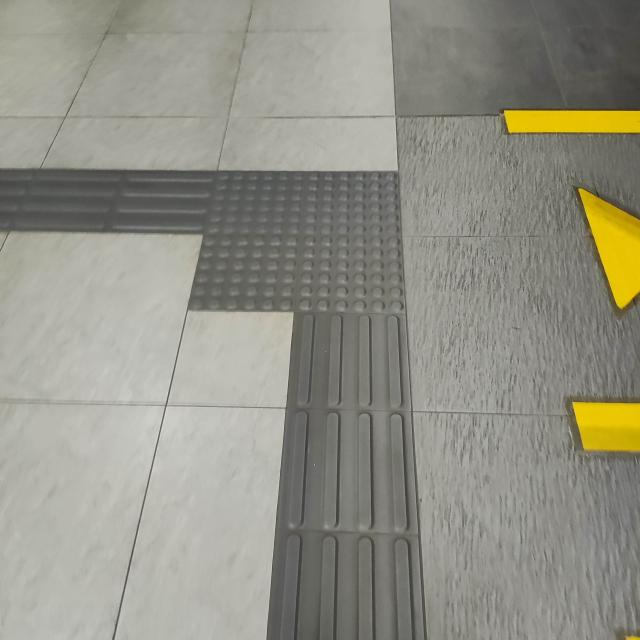kiri: (46, 129, 461, 381)
